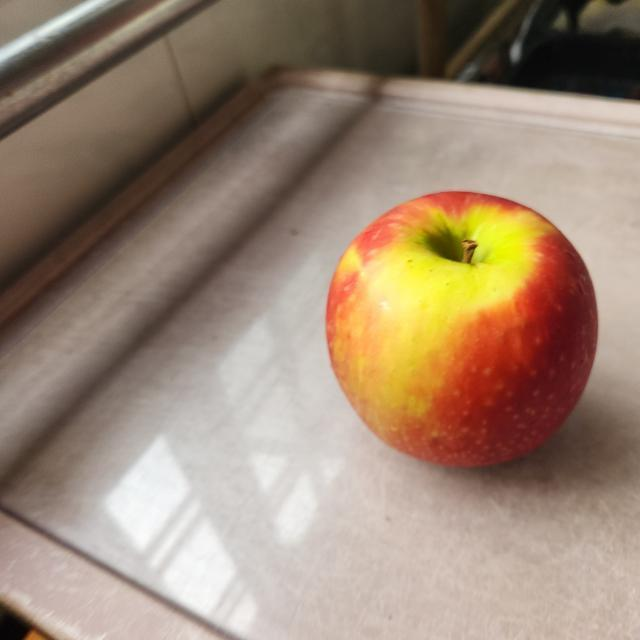apple: (321, 184, 604, 475)
